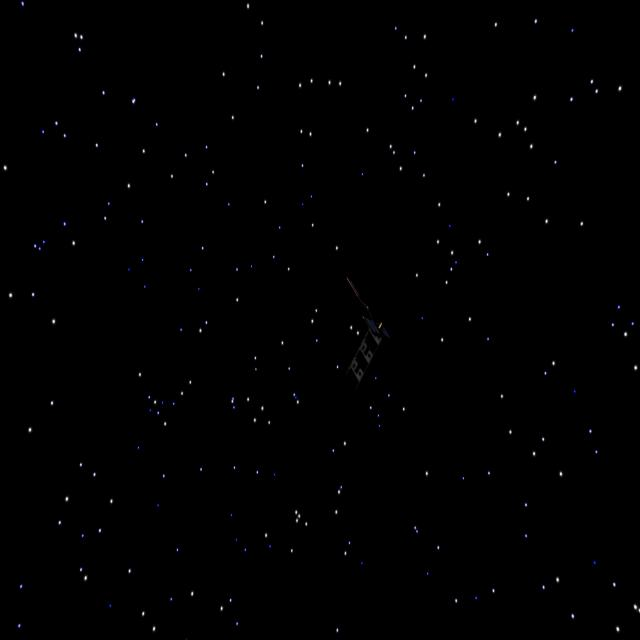medium_debris: (330, 269, 399, 397)
